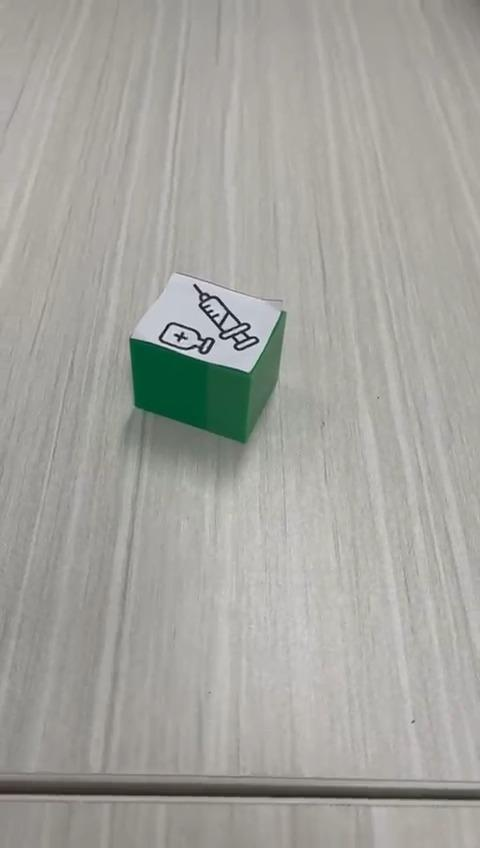antiseptic cream: (127, 270, 287, 444)
